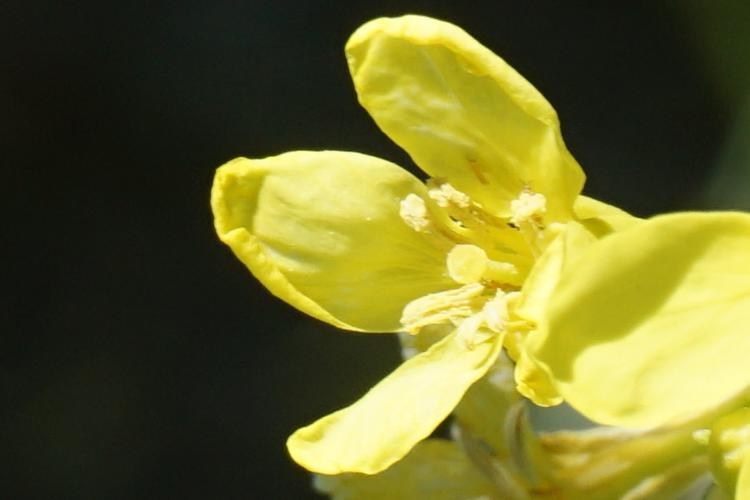yellow: (233, 31, 736, 448)
